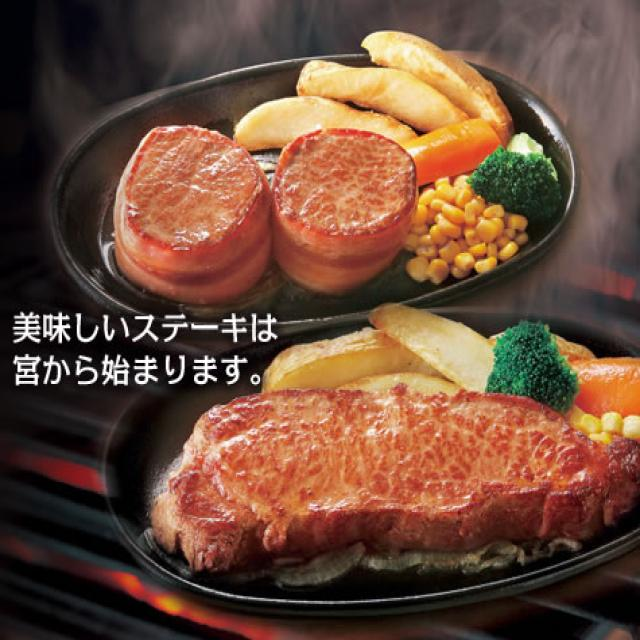牛肉菜式: (156, 386, 640, 588)
